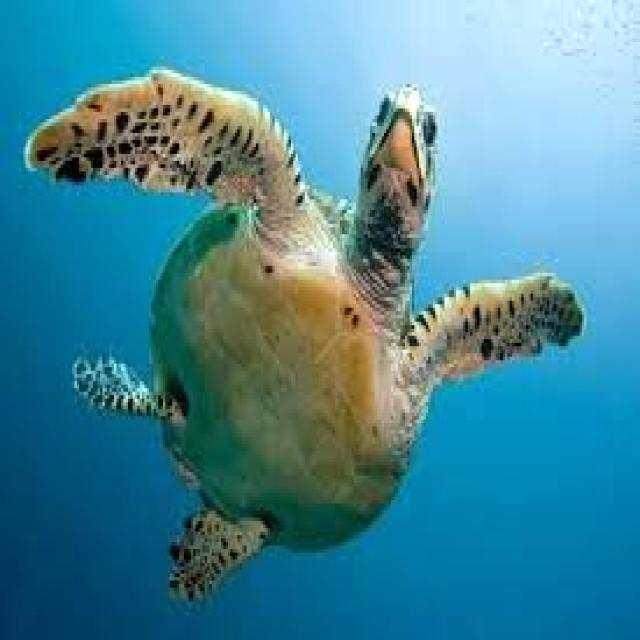Sea turtle: (23, 78, 590, 608)
